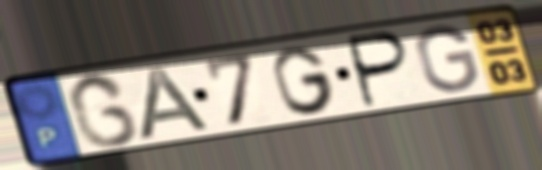7: (202, 50, 261, 129)
A: (136, 64, 216, 143)
G: (64, 70, 143, 150), (269, 44, 339, 117), (414, 22, 482, 95)
P: (346, 28, 414, 111)
